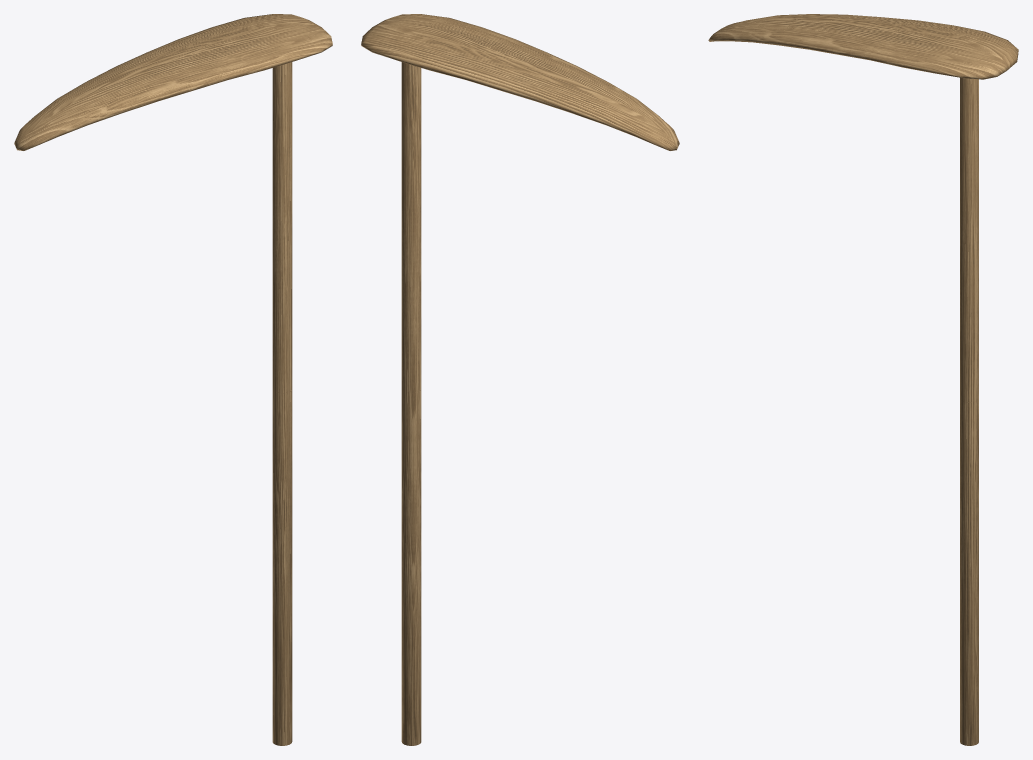
Rendered from hoe.glb.
3 renders of one model, left to right at view 1: azimuth 30°, elevation 25°; view 2: azimuth 150°, elevation 25°; view 3: azimuth 330°, elevation 25°, orthographic. The views are drawn at different scales.
Parts seen in each view (by area): view 1: blade, handle; view 2: blade, handle; view 3: handle, blade.
Part boxes in pixels (x1,y1,x2,y2): blade: [14, 14, 332, 150]; handle: [272, 62, 292, 745]; blade: [361, 14, 679, 150]; handle: [401, 62, 421, 745]; handle: [960, 77, 978, 745]; blade: [708, 14, 1018, 79].
Bounding box in the file's own units: 6.17 × 13.74 × 1.9.
Materials: 1 (1 with a texture image).
